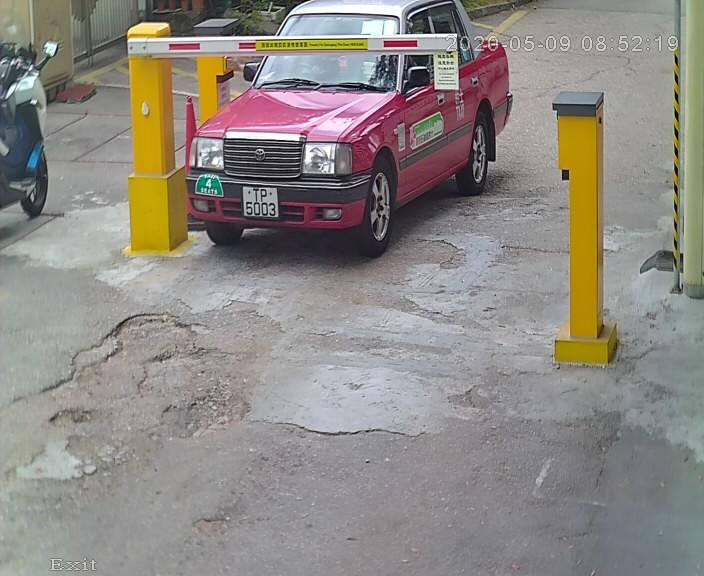Car: (177, 1, 521, 267)
License Plate: (237, 180, 282, 224)
